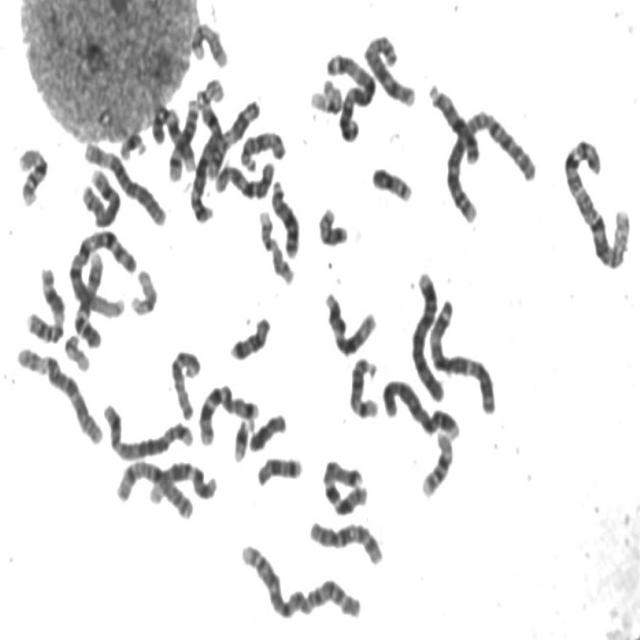A1: (558, 131, 633, 271), (64, 221, 139, 321)
A2: (440, 100, 538, 226), (236, 534, 366, 623)
A3: (424, 290, 499, 416), (322, 45, 379, 143)
B4: (377, 371, 462, 441), (407, 264, 447, 403)
B5: (98, 395, 194, 461), (187, 96, 225, 226)
C10: (305, 512, 385, 567), (209, 153, 277, 201)
C11: (202, 92, 262, 180), (20, 259, 67, 345)
C12: (318, 284, 378, 358), (144, 453, 220, 506)
C6: (10, 337, 106, 447), (78, 133, 168, 228)
C7: (193, 377, 260, 447), (317, 451, 370, 518)
C8: (358, 27, 417, 109), (76, 160, 123, 228)
C9: (68, 245, 105, 350), (148, 100, 198, 172)
D13: (423, 74, 482, 168), (267, 172, 301, 260)
D14: (164, 90, 202, 182), (344, 350, 381, 420)
D15: (166, 342, 202, 422), (235, 122, 288, 174)
E16: (416, 424, 456, 499), (12, 137, 50, 208)
E17: (253, 203, 296, 286), (186, 15, 230, 70)
E18: (225, 308, 272, 362), (252, 448, 304, 489)
F19: (126, 261, 160, 318), (305, 71, 345, 116)
F20: (367, 159, 414, 204), (312, 198, 350, 248)
G21: (228, 410, 255, 464), (114, 124, 149, 162)
G22: (60, 327, 92, 372), (192, 70, 226, 107)
X: (112, 454, 196, 522)
Y: (245, 405, 288, 454)
